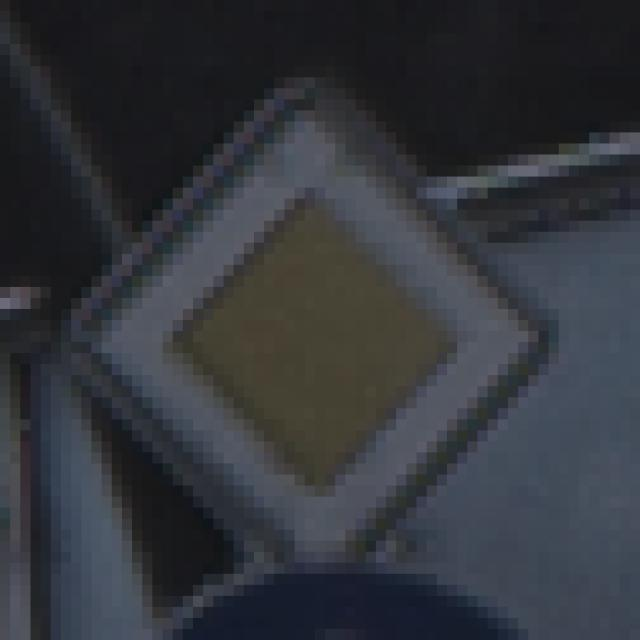Main Road: (62, 67, 590, 586)
